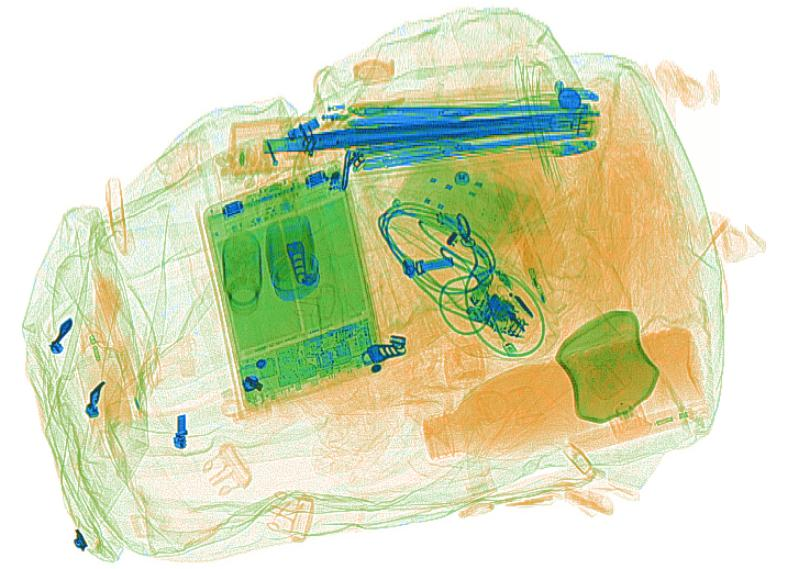plasticBottleWithaNozzle: (569, 395, 710, 453), (76, 314, 134, 437)
